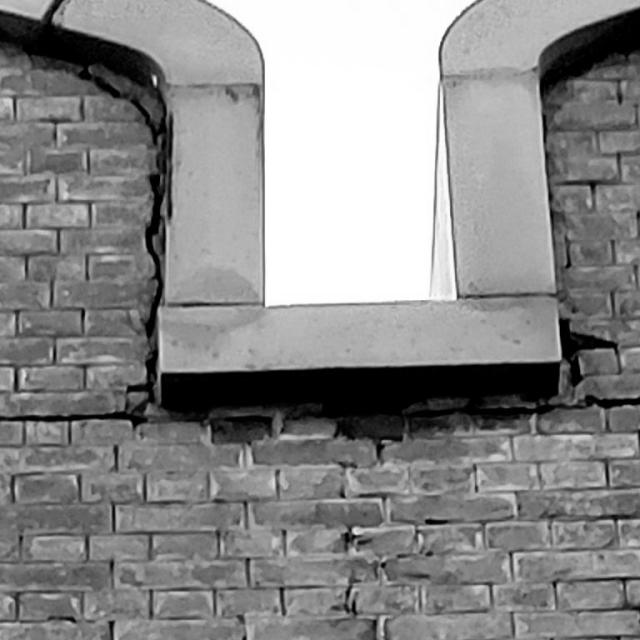crack: (1, 44, 162, 428), (225, 390, 640, 421), (558, 318, 616, 385)
